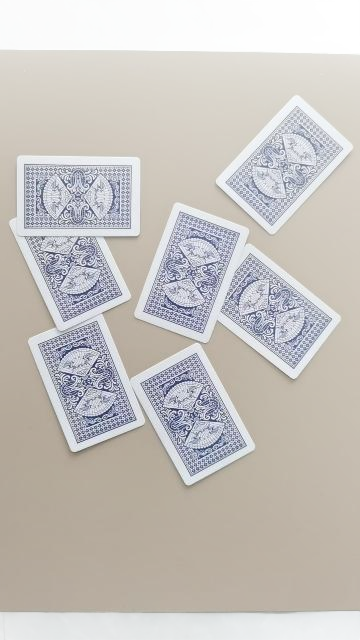card: (216, 98, 351, 234), (131, 345, 254, 485), (219, 244, 341, 379), (135, 202, 249, 342), (29, 316, 145, 451), (9, 219, 131, 331), (16, 155, 140, 236)
